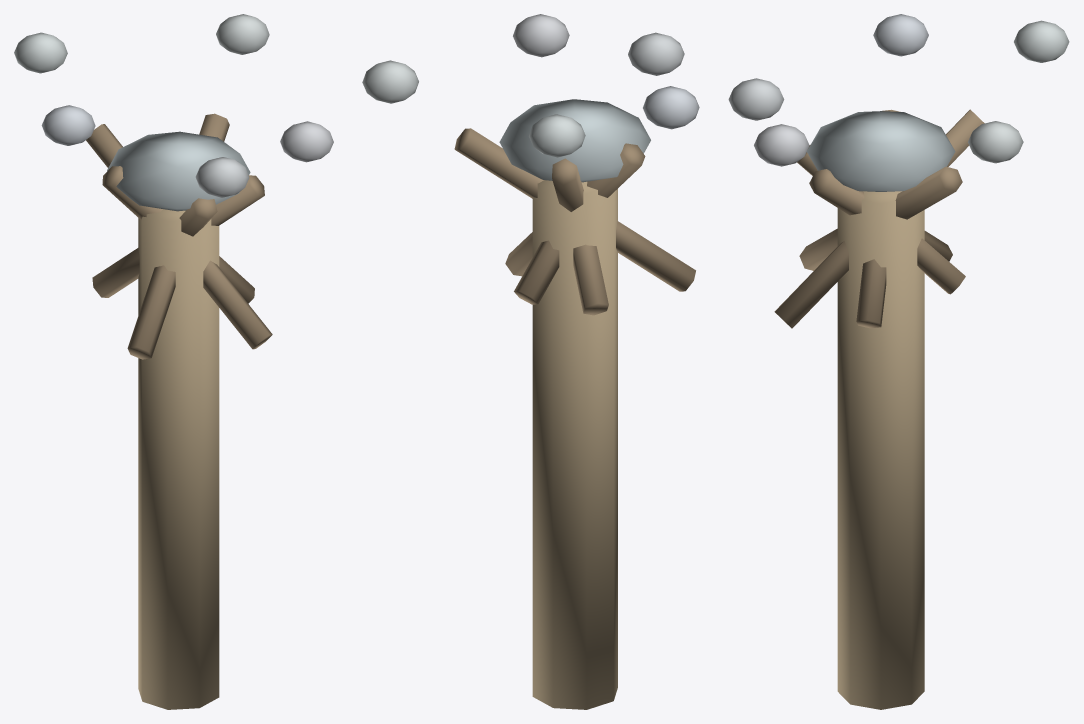
The model's file is plant_tree_apple_winter.glb.
The picture shows the model from 3 angles, left to right: view 1: azimuth 30°, elevation 25°; view 2: azimuth 150°, elevation 25°; view 3: azimuth 270°, elevation 25°; orthographic projection. The views are drawn at different scales.
Visible parts, largest first — view 1: trunk, snow_cap, branch4, branch3, branch2, snow2, snow1, snow4, snow0, snow3, branch0, branch1; view 2: trunk, snow_cap, branch3, branch0, snow1, branch2, snow4, snow0, snow3, snow2, branch1, branch4; view 3: trunk, snow_cap, branch4, branch3, snow1, snow3, snow0, branch2, snow4, snow2, branch0, branch1.
Part boxes in pixels (x1,y1,x2,y2): trunk: [138, 209, 219, 709]; snow_cap: [107, 131, 250, 211]; branch4: [86, 124, 272, 349]; branch3: [127, 113, 229, 359]; branch2: [92, 175, 264, 297]; snow2: [280, 121, 333, 162]; snow1: [195, 157, 249, 197]; snow4: [14, 32, 67, 73]; snow0: [41, 105, 95, 145]; snow3: [216, 14, 269, 54]; branch0: [102, 166, 254, 303]; branch1: [179, 198, 217, 236]; trunk: [532, 180, 617, 709]; snow_cap: [499, 99, 650, 182]; branch3: [454, 128, 695, 291]; branch0: [505, 143, 645, 276]; snow1: [628, 32, 684, 75]; branch2: [573, 244, 608, 315]; snow4: [529, 114, 585, 157]; snow0: [643, 86, 699, 129]; snow3: [362, 60, 418, 103]; snow2: [513, 14, 569, 57]; branch1: [514, 240, 559, 304]; branch4: [552, 158, 583, 211]; trunk: [837, 191, 924, 709]; snow_cap: [807, 111, 955, 191]; branch4: [774, 109, 984, 328]; branch3: [799, 166, 962, 270]; snow1: [728, 78, 784, 120]; snow3: [968, 121, 1023, 163]; snow0: [873, 14, 928, 56]; branch2: [809, 169, 952, 261]; snow4: [1014, 20, 1069, 62]; snow2: [754, 124, 809, 166]; branch0: [856, 109, 900, 328]; branch1: [797, 145, 965, 294].
Bounding box in the file's own units: 0.5136 × 1.13 × 0.5495.
